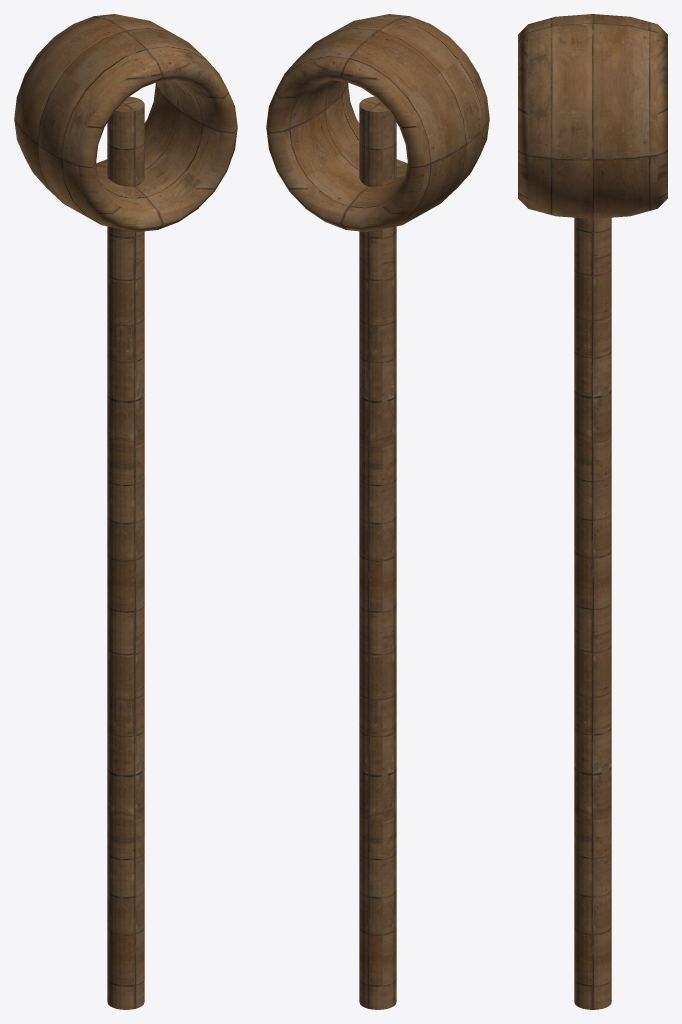
Rendered from cajado.glb.
The picture shows the model from 3 angles, left to right: view 1: azimuth 30°, elevation 25°; view 2: azimuth 150°, elevation 25°; view 3: azimuth 270°, elevation 25°; orthographic projection.
Visible parts, largest first — view 1: Extremidade curva, Haste; view 2: Extremidade curva, Haste; view 3: Haste, Extremidade curva.
Boxes of the visible parts, x1,y1,x2,y2 form: Extremidade curva: (14,14,237,231); Haste: (107,96,144,1009); Extremidade curva: (266,14,489,231); Haste: (359,96,396,1009); Haste: (574,217,611,1009); Extremidade curva: (518,14,667,218).
Size of the model in its own units: 0.495 by 2.6 by 0.36.
1 material, 1 textured.
